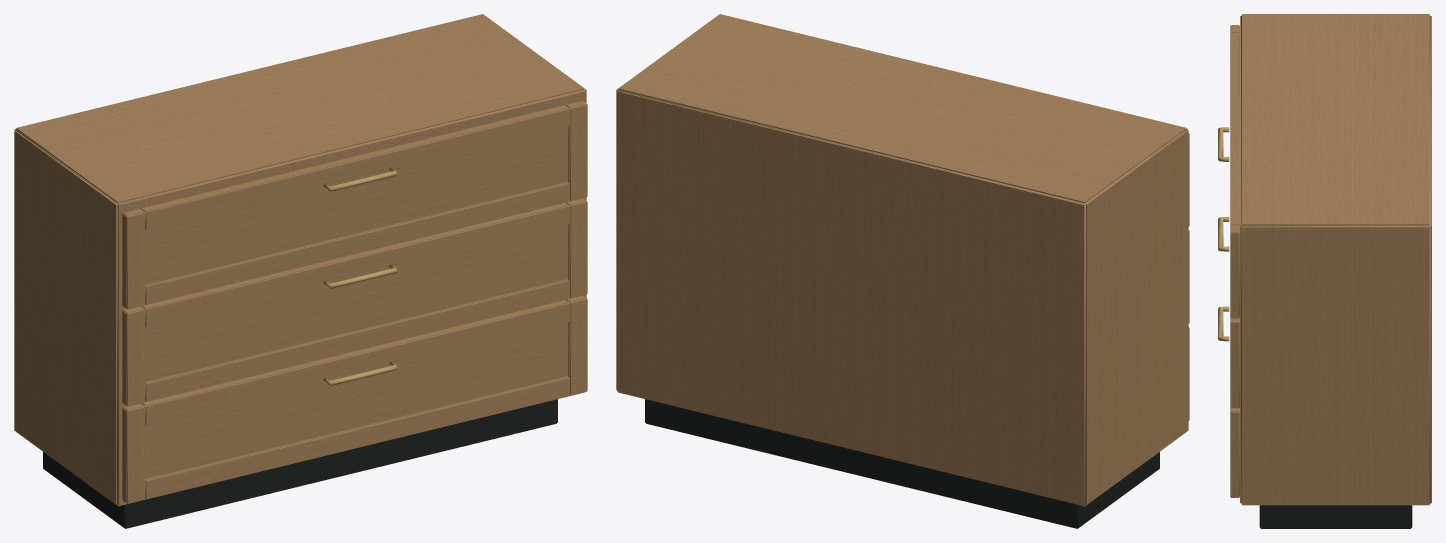
Rendered from country.dresser.gltf.
3 views of the same model, side by side, from view 1: azimuth 30°, elevation 25°; view 2: azimuth 150°, elevation 25°; view 3: azimuth 270°, elevation 25° (orthographic). The views are drawn at different scales.
Parts seen in each view (by area): view 1: country.dresser.carcass; view 2: country.dresser.carcass; view 3: country.dresser.carcass.
Part boxes in pixels (x1,y1,x2,y2): country.dresser.carcass: (14, 14, 587, 528); country.dresser.carcass: (616, 14, 1189, 528); country.dresser.carcass: (1218, 14, 1431, 528).
Size of the model in its own units: 1.15 by 0.79 by 0.49.
3 materials, 1 textured.
